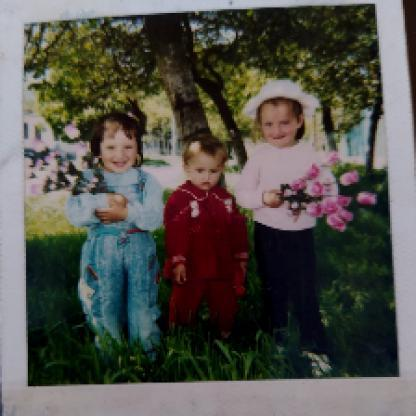child: (237, 80, 341, 377), (67, 112, 162, 359), (162, 132, 251, 342)
